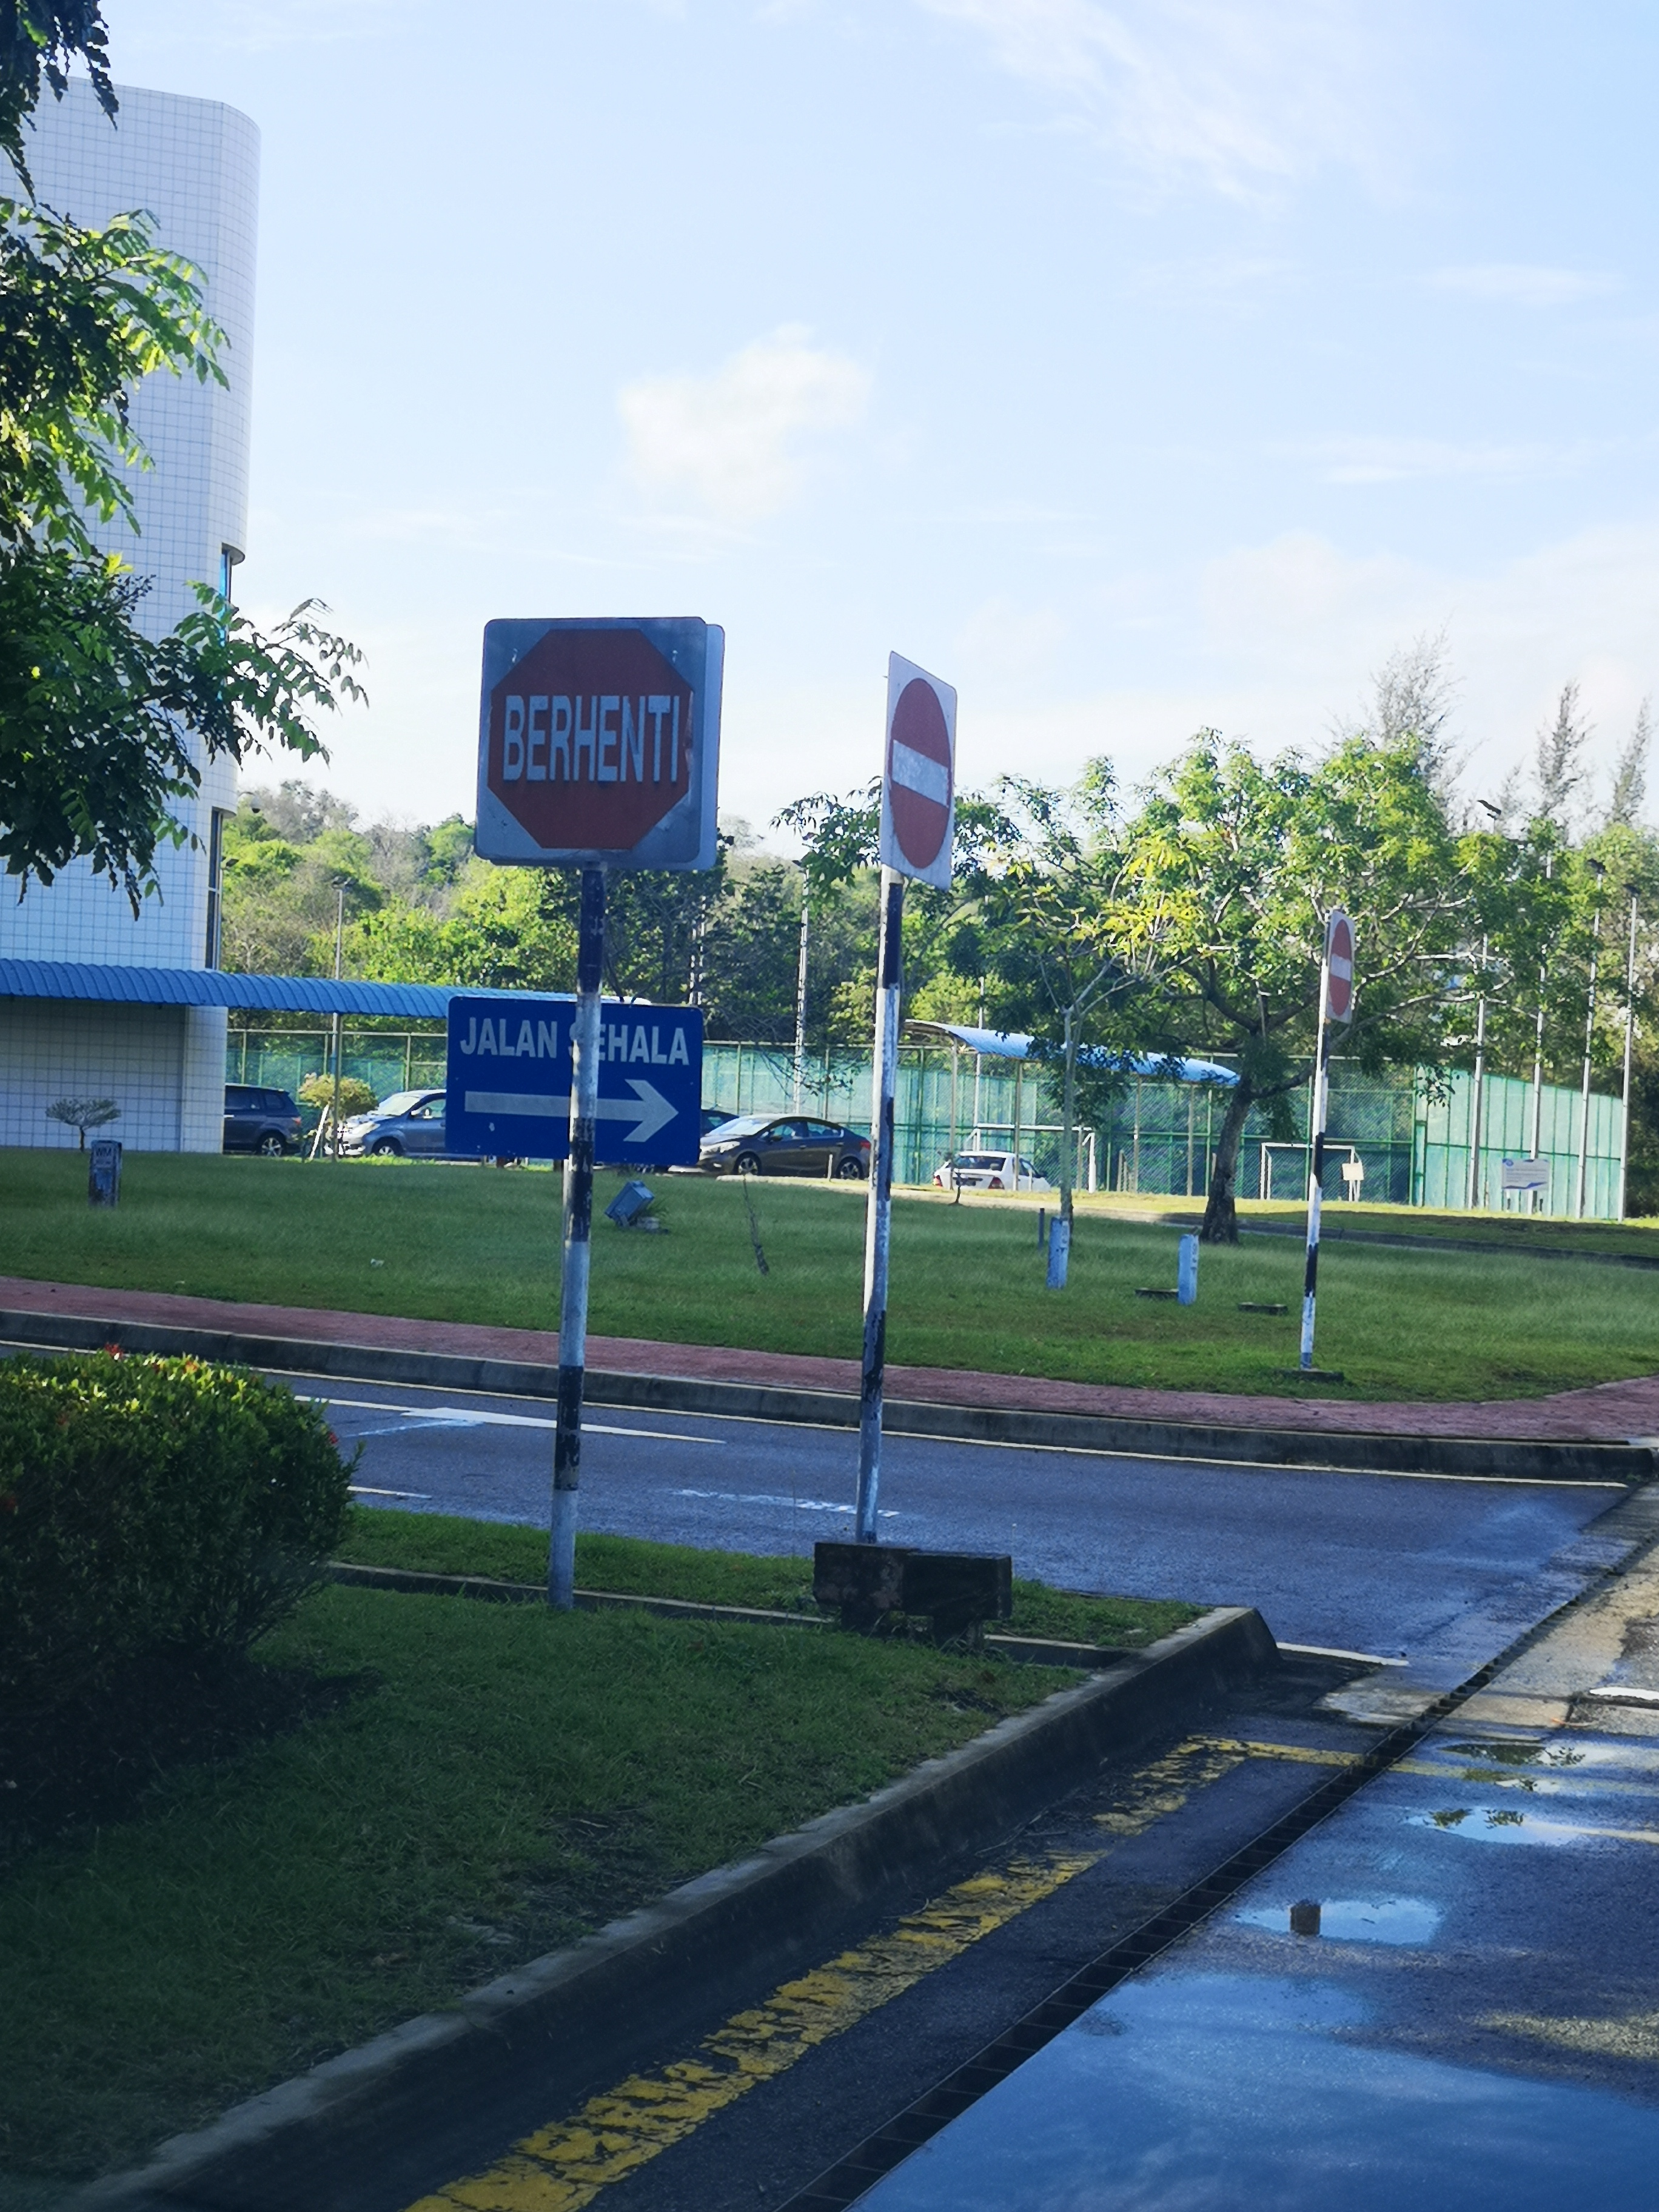no entry: (882, 655, 983, 895), (1323, 907, 1371, 1038)
one way street: (444, 984, 702, 1176)
stop: (481, 613, 714, 866)
